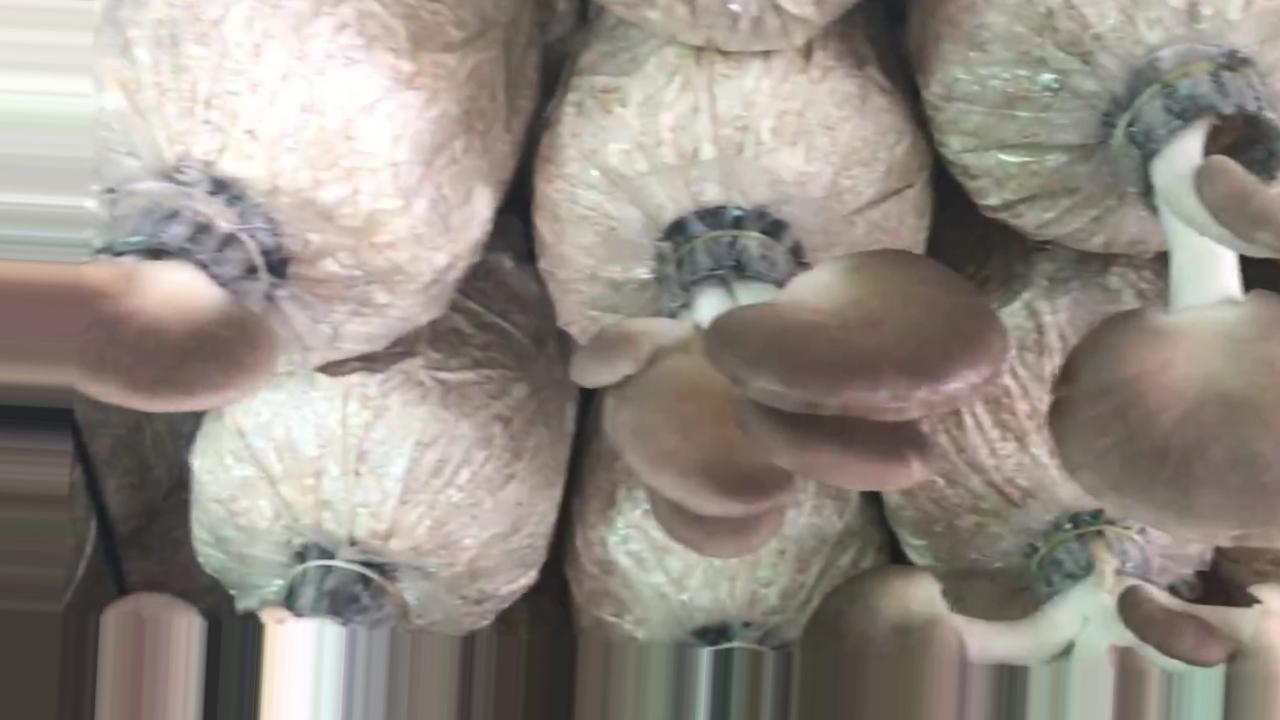nam: (564, 214, 1009, 567), (1046, 63, 1280, 551), (796, 560, 1264, 720), (78, 182, 282, 416)
